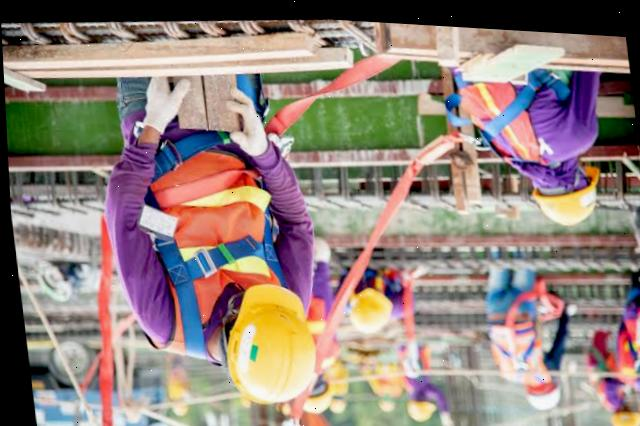helmet: (217, 272, 319, 396), (520, 162, 609, 219), (347, 281, 398, 332), (517, 373, 562, 401), (295, 387, 336, 413), (601, 396, 631, 426), (400, 391, 430, 416), (373, 390, 394, 410), (637, 391, 640, 426)
vest: (117, 137, 304, 358), (458, 54, 549, 158), (469, 286, 548, 378)
